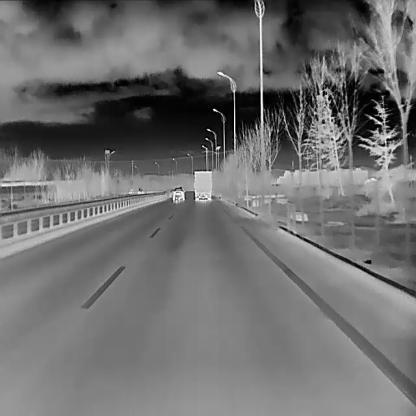car: (193, 170, 212, 201), (172, 186, 185, 202), (136, 184, 143, 195)
